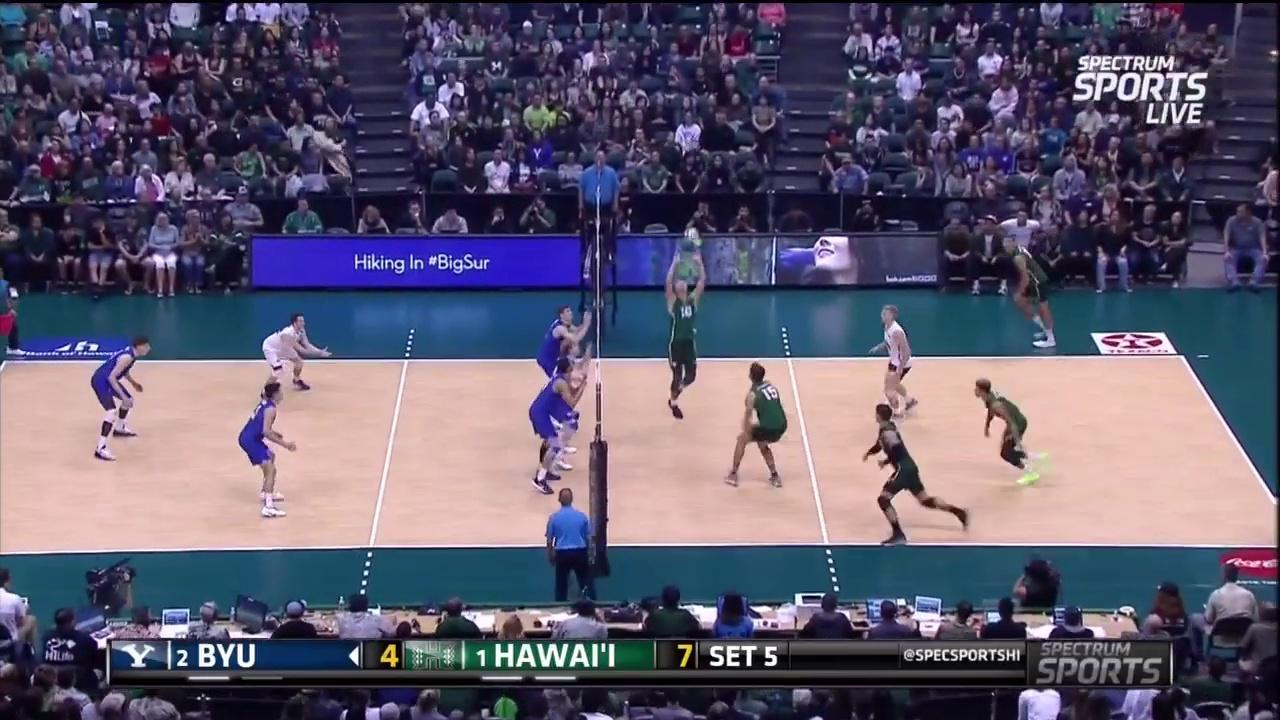player: (864, 407, 966, 542), (238, 379, 298, 517), (722, 366, 787, 485), (998, 234, 1061, 353), (976, 381, 1047, 485), (536, 301, 596, 419), (529, 357, 579, 494), (663, 243, 702, 415), (92, 338, 146, 457), (262, 312, 332, 392), (870, 309, 919, 415), (547, 344, 588, 469)
refree: (541, 487, 599, 603), (578, 147, 624, 253), (0, 264, 34, 360)
